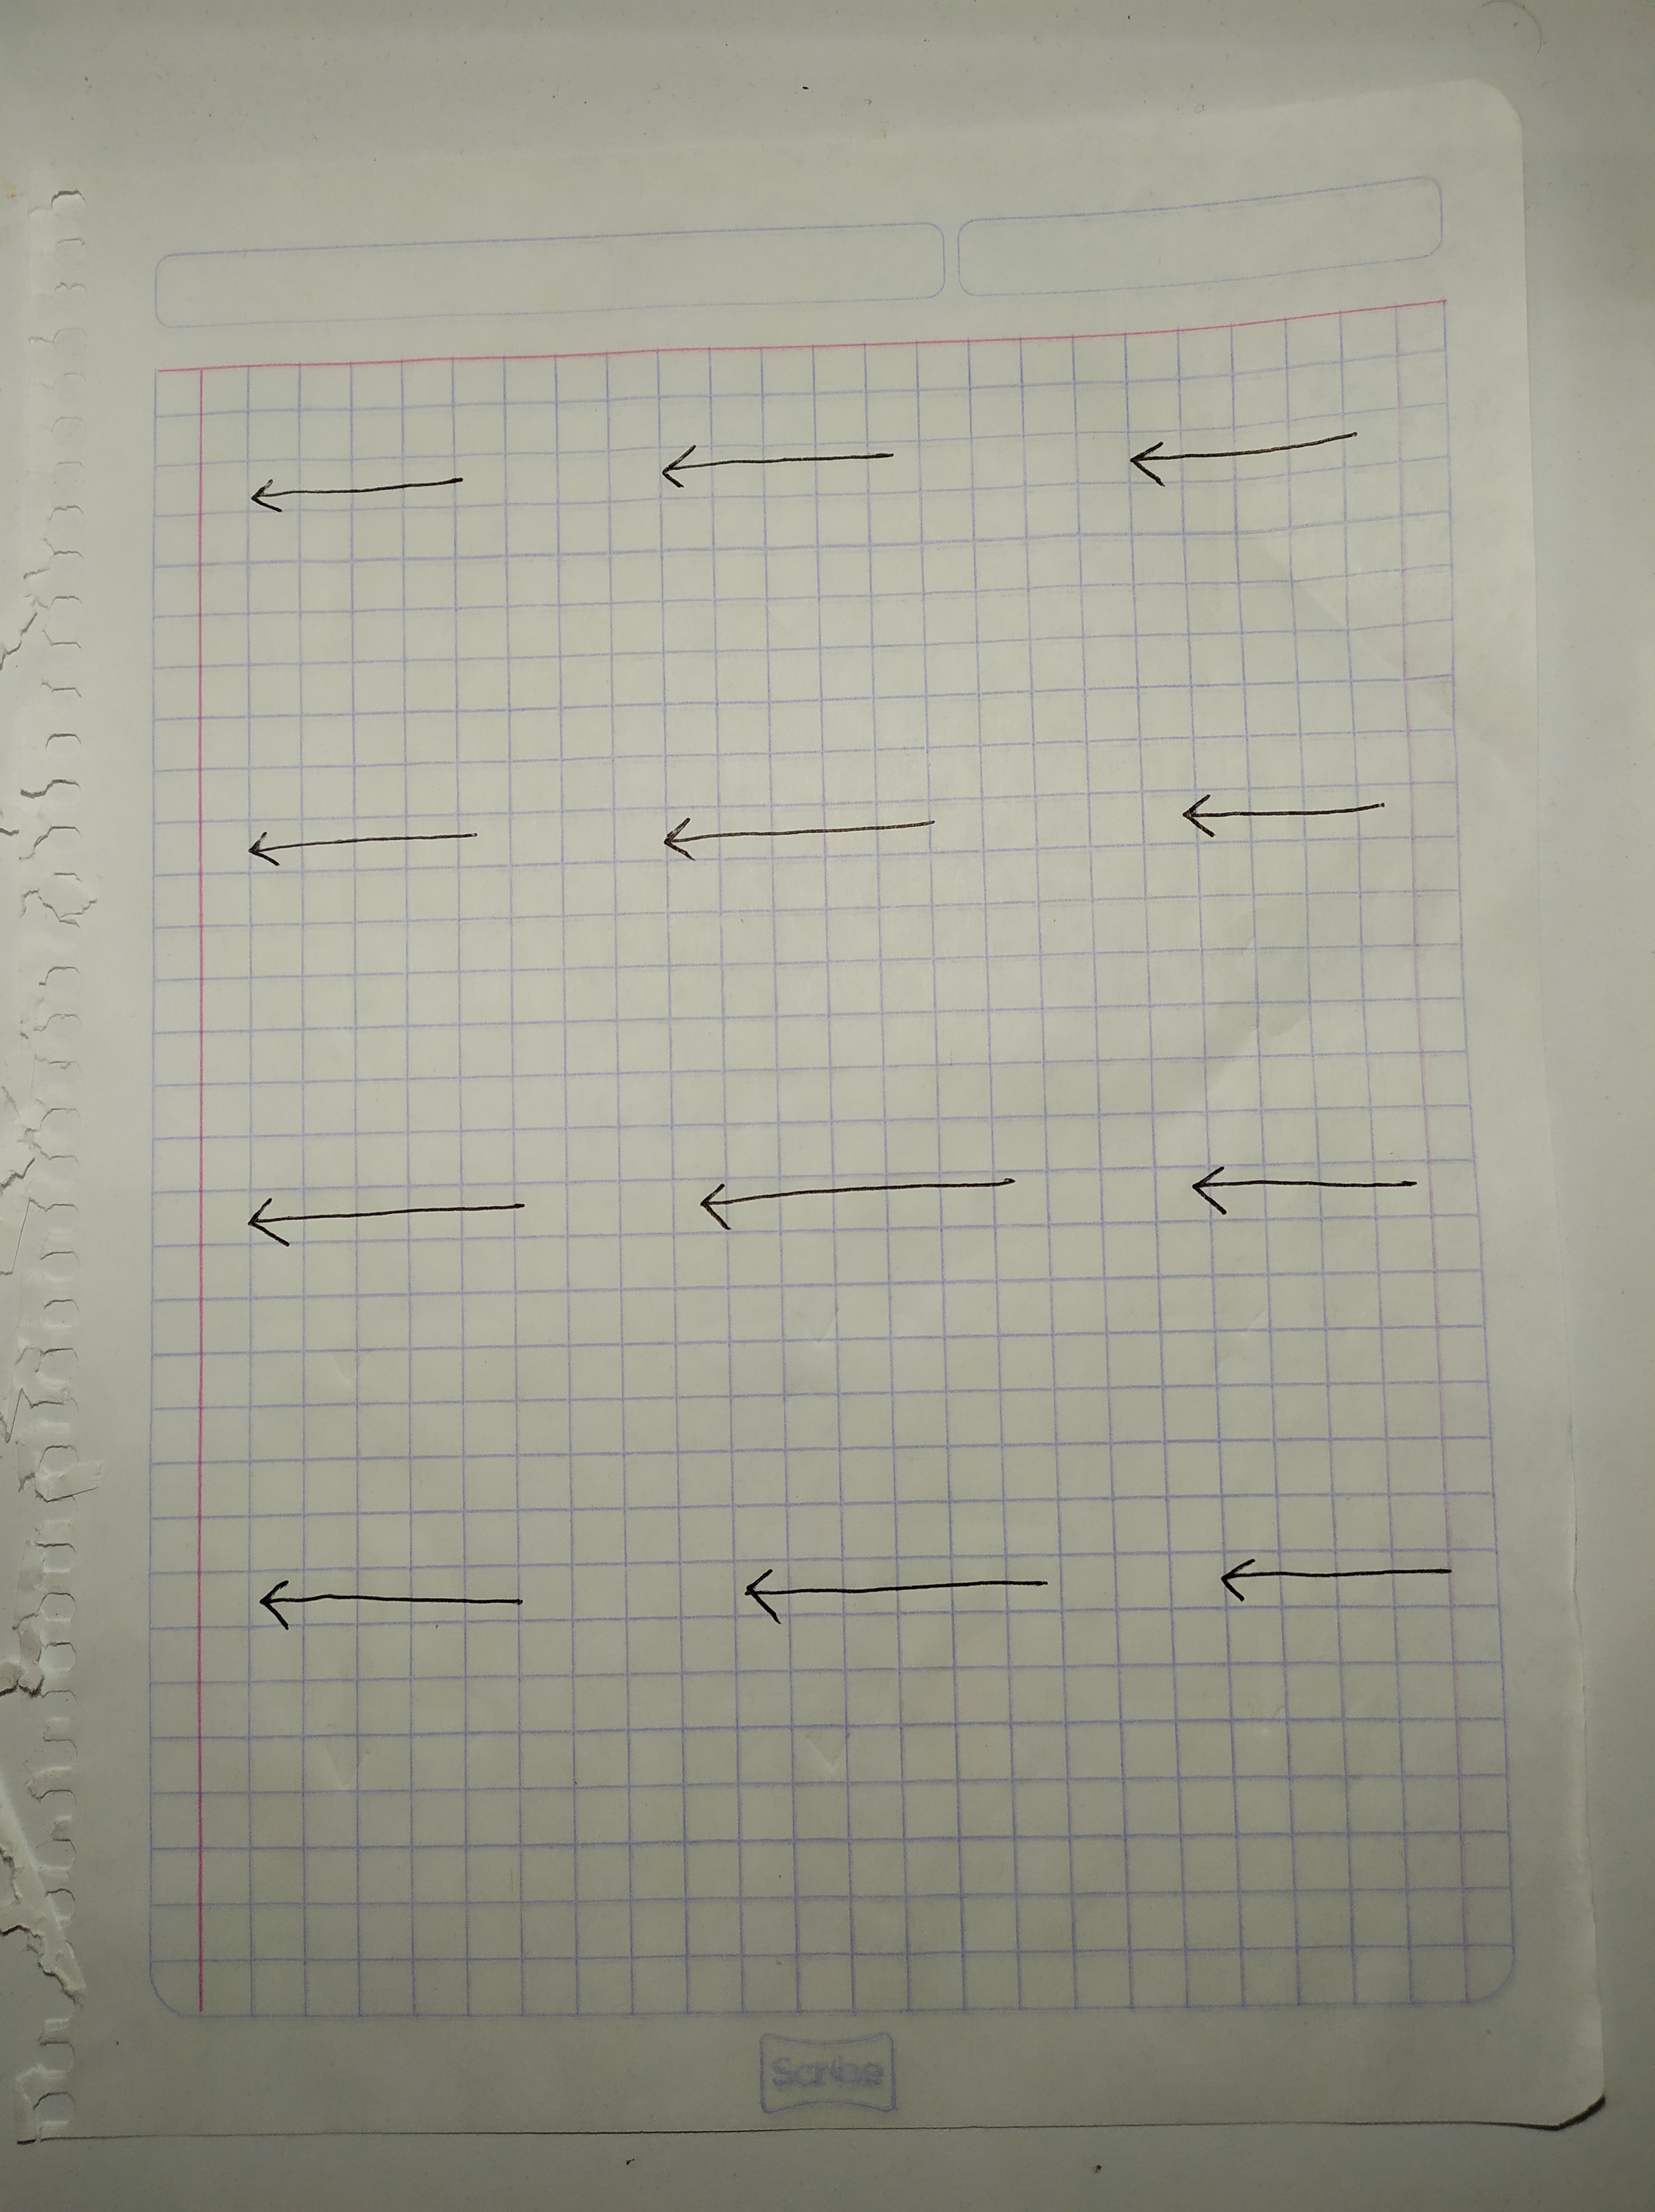arrow_line_left: (671, 1164, 1048, 1267), (708, 1543, 1078, 1642), (214, 1178, 582, 1265), (235, 1562, 558, 1649), (629, 801, 986, 879), (221, 799, 504, 897), (1156, 1154, 1450, 1244), (1194, 1548, 1492, 1619), (631, 433, 939, 500), (1104, 424, 1401, 493), (226, 454, 483, 528), (1153, 785, 1429, 850)
